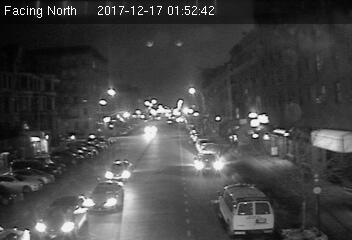car: (32, 194, 94, 240), (84, 180, 128, 214), (193, 153, 224, 177), (105, 160, 136, 184)
police: (214, 181, 277, 235)
